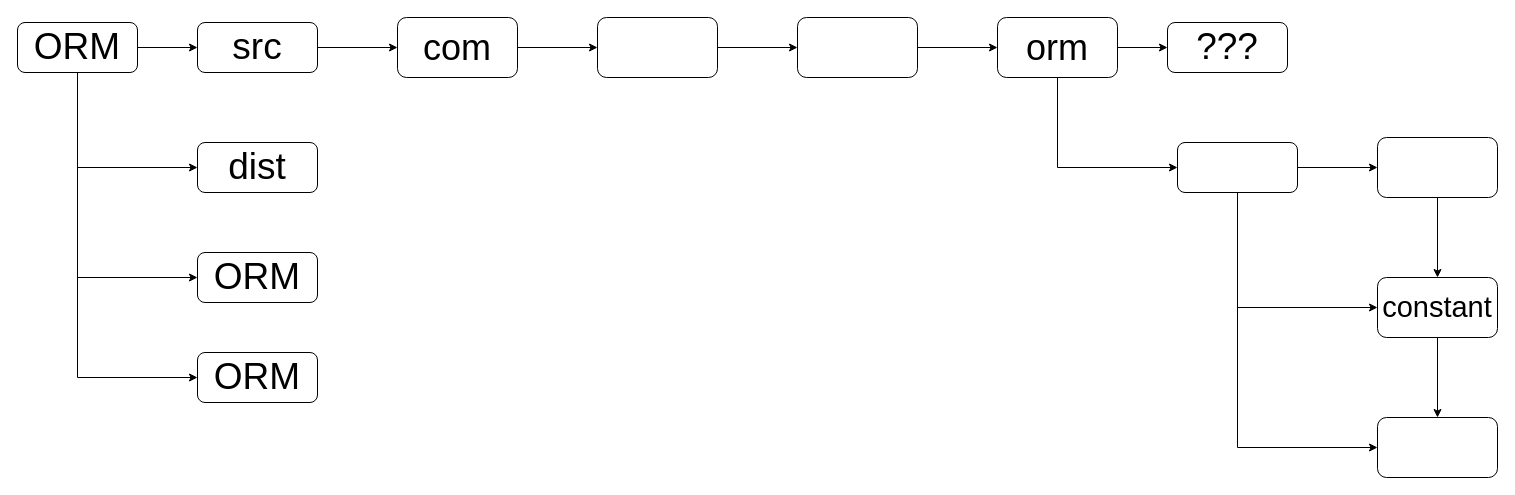
Some shapes in this 1515 by 495 pixel diagram are drawn without their labels. Each missing label, with the centre of its shape:
foreignkey: point (1437, 447)
machines: point (857, 47)
string: point (1437, 167)
thinking: point (657, 47)
util: point (1237, 167)
